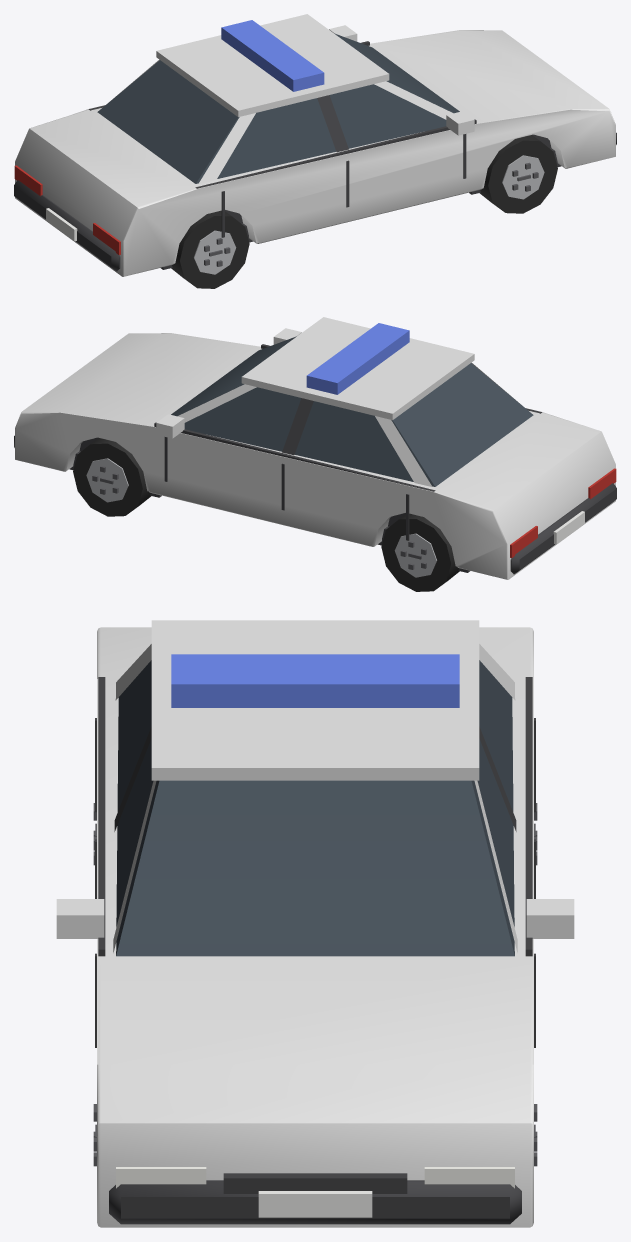
The model's file is police.glb.
3 views of the same model, one above another, from view 1: azimuth 30°, elevation 25°; view 2: azimuth 150°, elevation 25°; view 3: azimuth 270°, elevation 25° (orthographic). The views are drawn at different scales.
Parts seen in each view (by area): view 1: police; view 2: police; view 3: police.
Part boxes in pixels (left/top/right/bottom): police: left=14, top=14, right=616, bottom=288; police: left=14, top=317, right=616, bottom=591; police: left=56, top=620, right=574, bottom=1227.
Bounding box in the file's own units: 4.97 × 1.6 × 2.18.
